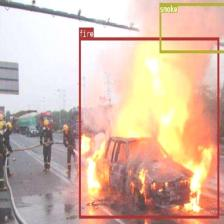fire: (78, 37, 218, 218)
smoke: (159, 3, 224, 52)
